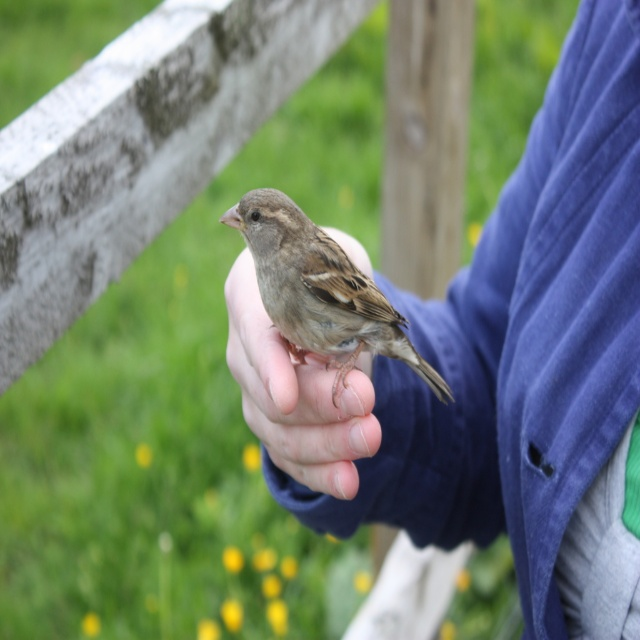Sparrow: (218, 186, 456, 408)
